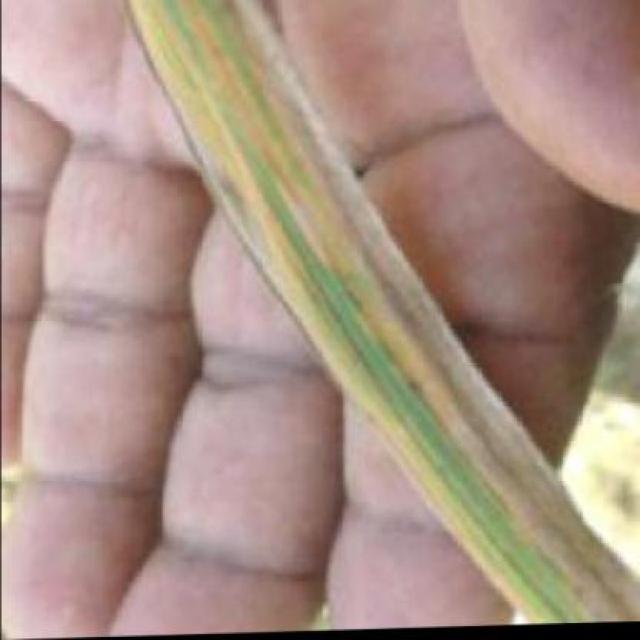Brown_Spot: (72, 0, 560, 582), (86, 566, 579, 632)
